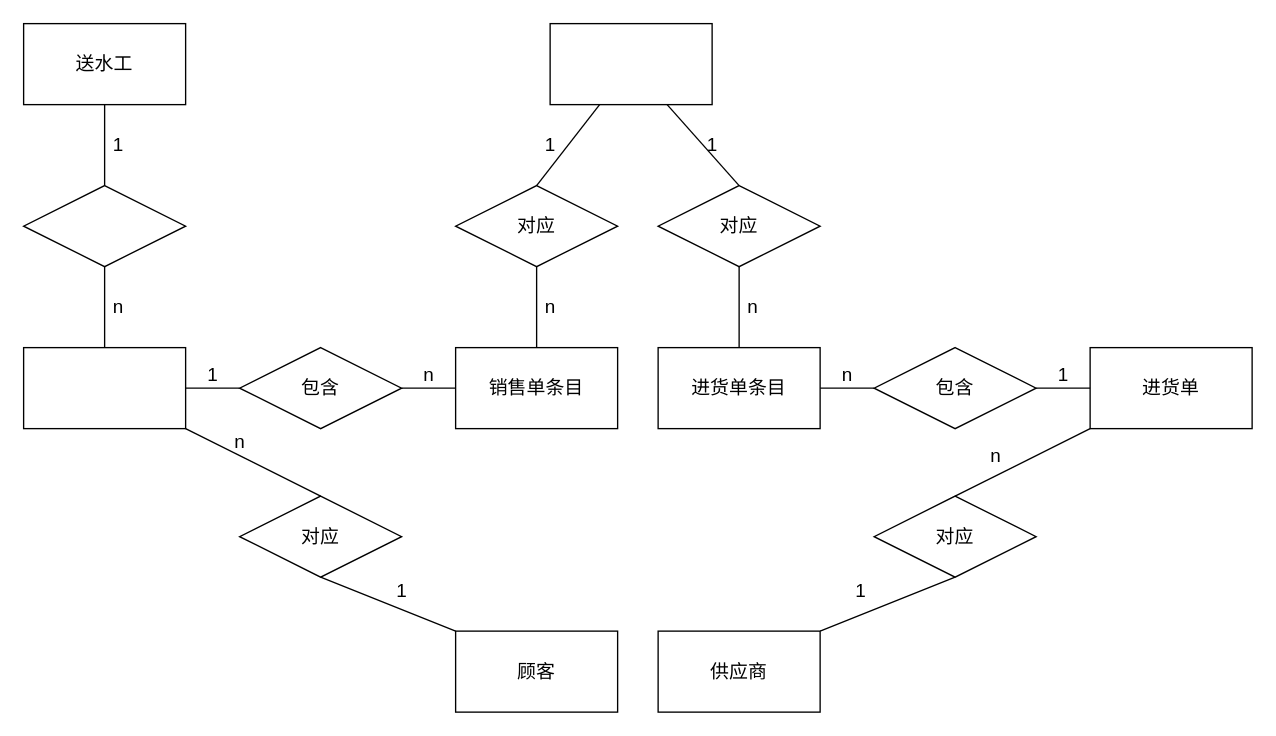
The diagram is 1276 pixels wide and 736 high, and some of its shapes have lost their labels. The centre of each missing label's shape, as x and y in pixels:
"矿泉水" goes at (630,63).
"负责" goes at (104,225).
"销售单" goes at (104,387).
